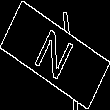N_SW: (31, 23, 79, 87)
